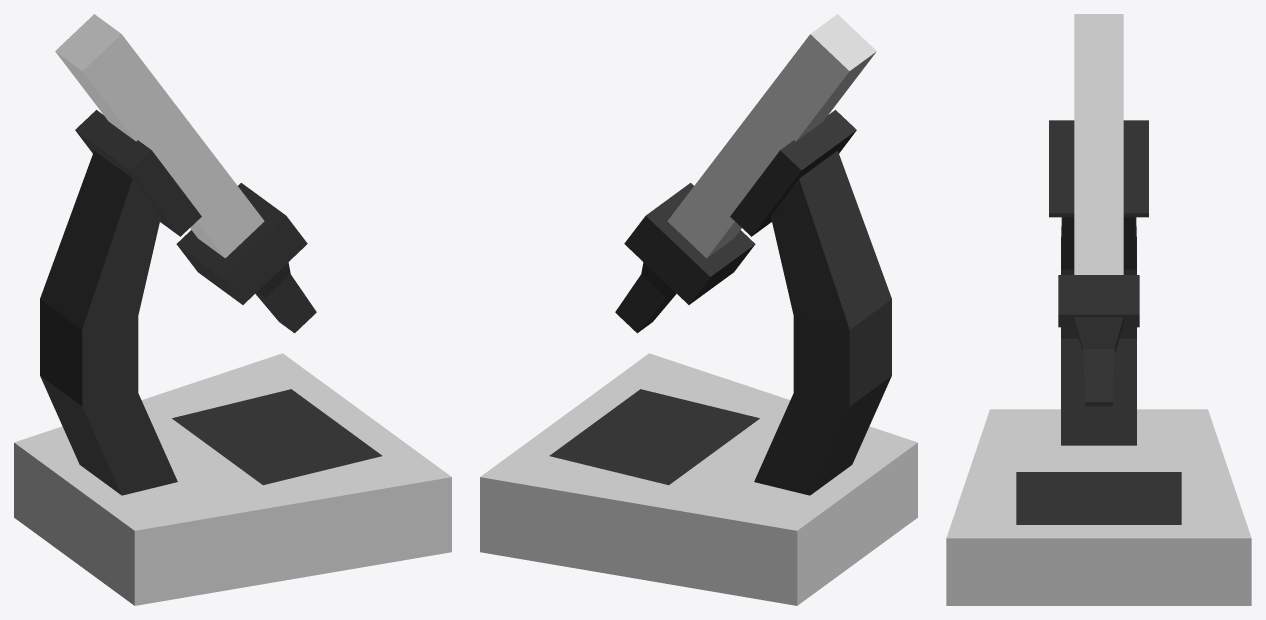
File: Prop_Small_Microscope.glb
The picture shows the model from 3 angles, left to right: view 1: azimuth 30°, elevation 25°; view 2: azimuth 150°, elevation 25°; view 3: azimuth 270°, elevation 25°; orthographic projection. The views are drawn at different scales.
Parts seen in each view (by area): view 1: Prop_Microscope; view 2: Prop_Microscope; view 3: Prop_Microscope.
Boxes of the visible parts, box(x1,y1,x2,y2) form: Prop_Microscope: box(14, 14, 451, 605); Prop_Microscope: box(480, 14, 917, 605); Prop_Microscope: box(946, 14, 1251, 605).
Bounding box in the file's own units: 0.265 × 0.4378 × 0.2535.
1 material, 1 textured.
